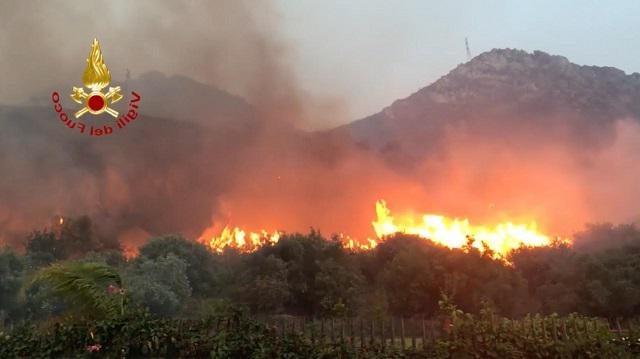fire: (356, 196, 573, 258), (203, 219, 283, 254)
